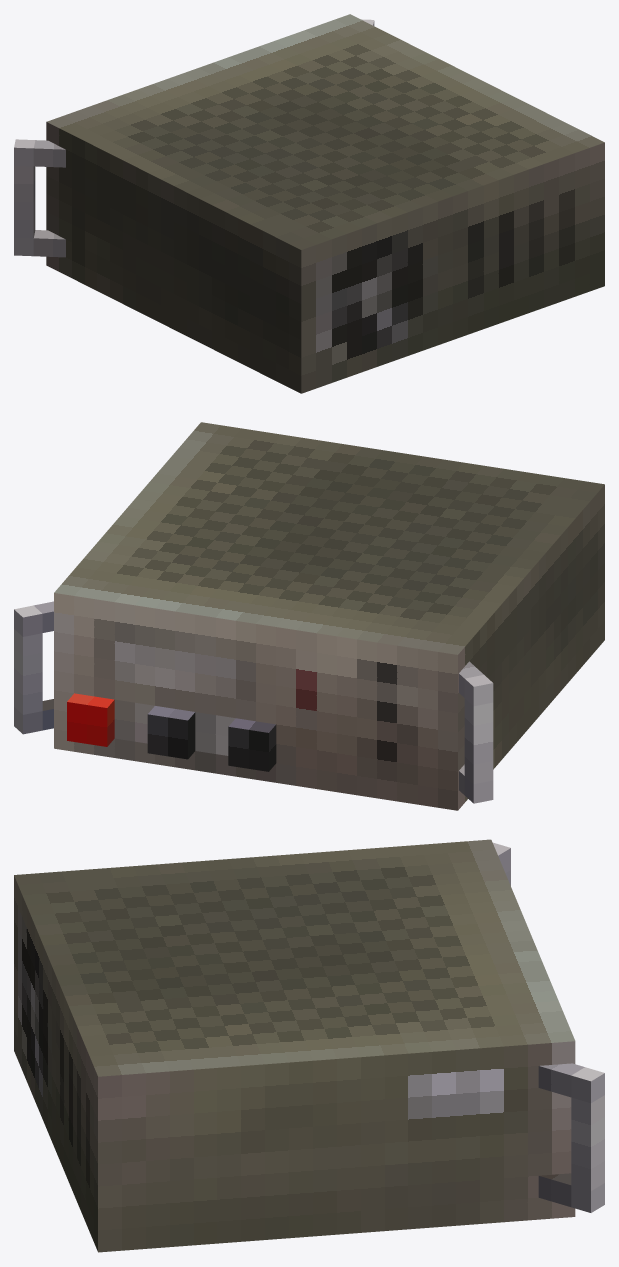
The model's file is power_supply.fbx.
The picture shows the model from 3 angles, top to bottom: view 1: azimuth 30°, elevation 25°; view 2: azimuth 150°, elevation 25°; view 3: azimuth 270°, elevation 25°; orthographic projection. The views are drawn at different scales.
Parts seen in each view (by area): view 1: power_supply; view 2: power_supply; view 3: power_supply.
Boxes of the visible parts, left/top/right/bottom form: power_supply: left=14, top=14, right=604, bottom=393; power_supply: left=14, top=422, right=604, bottom=810; power_supply: left=14, top=839, right=604, bottom=1252.
Size of the model in its own units: 125 by 40 by 122.
